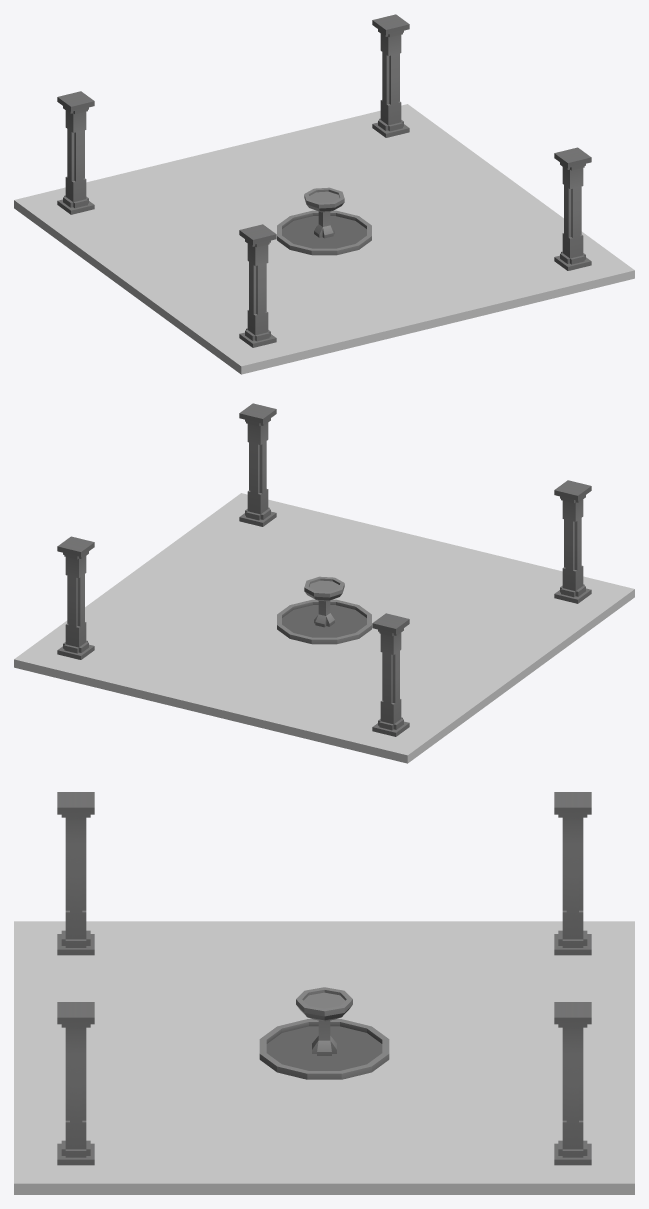
The model's file is tile_fountain.glb.
3 renders of one model, top to bottom at view 1: azimuth 30°, elevation 25°; view 2: azimuth 150°, elevation 25°; view 3: azimuth 270°, elevation 25°, orthographic. The views are drawn at different scales.
Parts seen in each view (by area): view 1: Floor, Fountain, Pillar1, Pillar2, Pillar3, Pillar4; view 2: Floor, Fountain, Pillar2, Pillar1, Pillar3, Pillar4; view 3: Floor, Fountain, Pillar3, Pillar4, Pillar1, Pillar2.
Boxes of the visible parts, x1=… form: Floor: x1=14, y1=104, x2=634, y2=374; Fountain: x1=277, y1=187, x2=371, y2=255; Pillar1: x1=239, y1=224, x2=276, y2=347; Pillar2: x1=57, y1=91, x2=94, y2=214; Pillar3: x1=372, y1=14, x2=409, y2=137; Pillar4: x1=554, y1=147, x2=591, y2=270; Floor: x1=14, y1=493, x2=634, y2=763; Fountain: x1=277, y1=576, x2=371, y2=644; Pillar2: x1=372, y1=613, x2=409, y2=736; Pillar1: x1=554, y1=480, x2=591, y2=603; Pillar3: x1=57, y1=536, x2=94, y2=659; Pillar4: x1=239, y1=403, x2=276, y2=526; Floor: x1=14, y1=921, x2=634, y2=1194; Fountain: x1=259, y1=987, x2=389, y2=1079; Pillar3: x1=554, y1=1002, x2=591, y2=1165; Pillar4: x1=57, y1=1002, x2=94, y2=1165; Pillar1: x1=57, y1=792, x2=94, y2=955; Pillar2: x1=554, y1=792, x2=591, y2=955.
Size of the model in its own units: 100 by 38.3 by 100.
5 materials, 5 textured.
